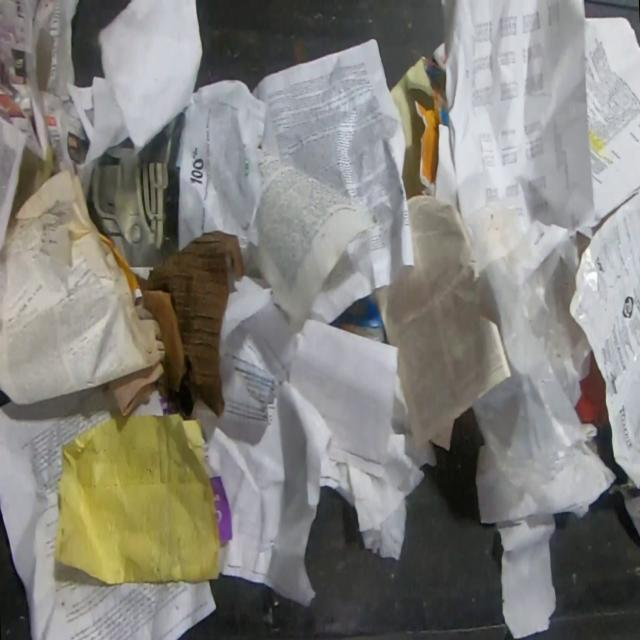cardboard: (134, 228, 246, 419), (414, 57, 449, 196)
soft_plastic: (462, 201, 598, 488)
